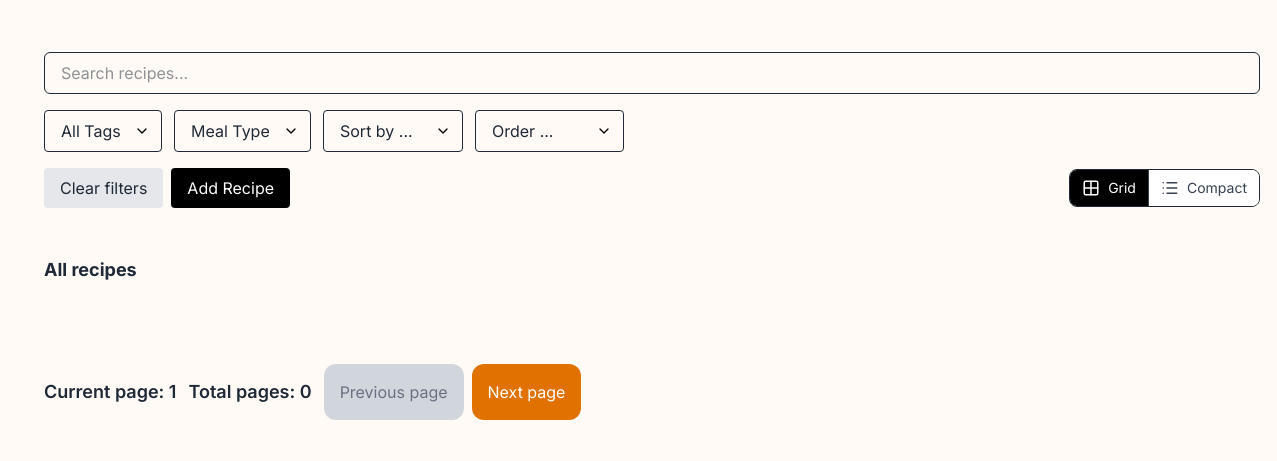
Scenario: RecipePage Debounced Search › updates the URL searchParams after 400ms of inactivity
Type "pasta" into the field with placeholder "Search recipes...". click: (652, 73)
box: top-left (44, 52), bottom-right (1260, 94)
Wait 400 ms
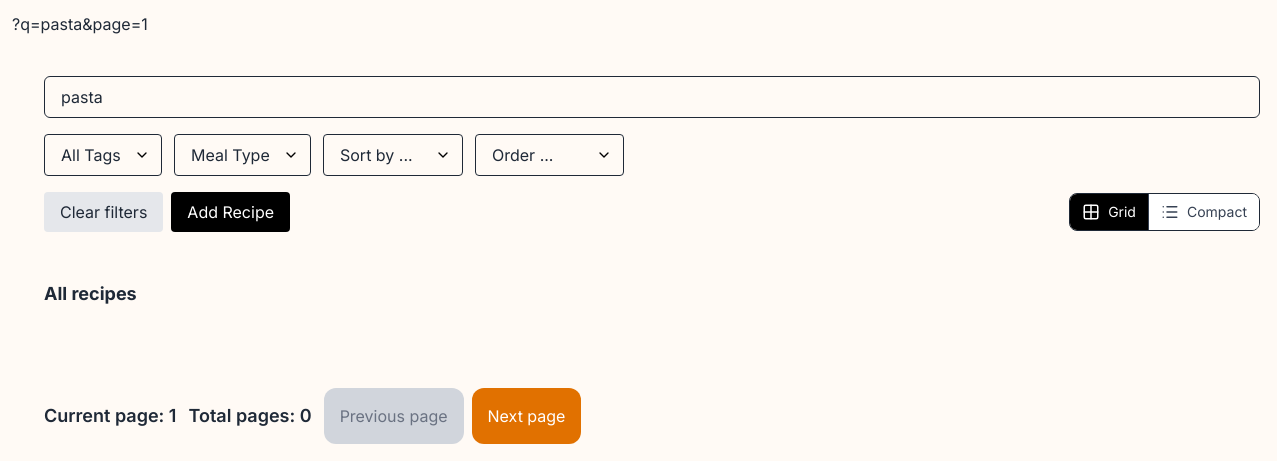
expect the text with test id "url-location" shows "q=pasta": met, box top-left (12, 14), bottom-right (148, 34)
expect the text with test id "url-location" shows "page=1": met, box top-left (12, 14), bottom-right (148, 34)
